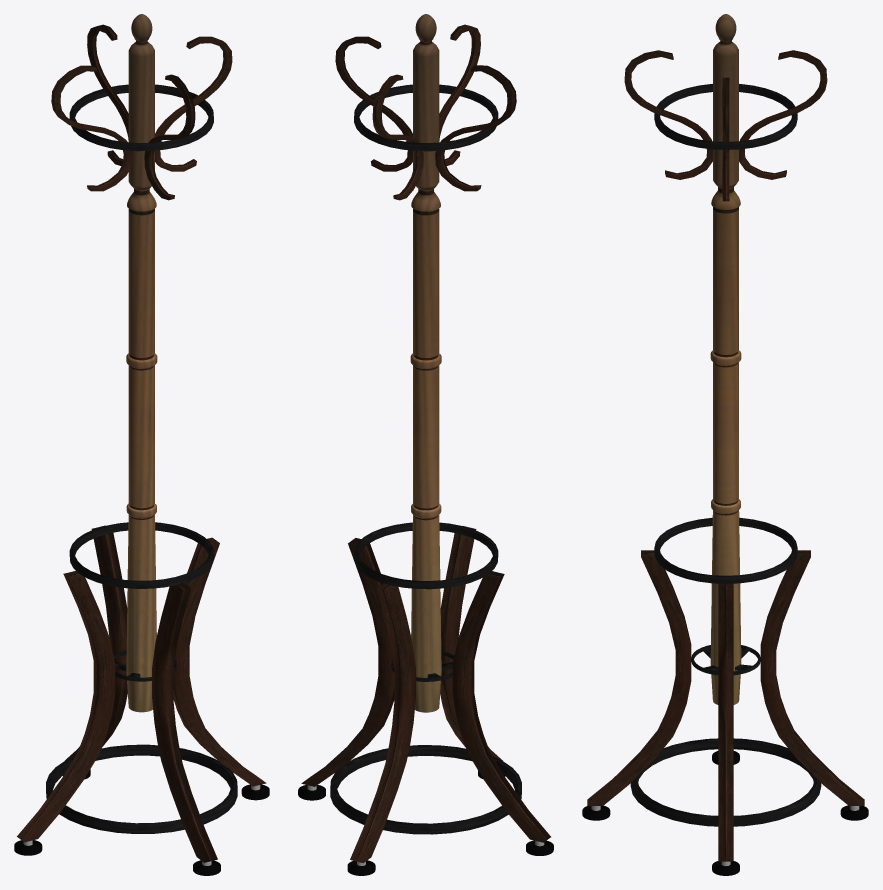
Rendered from Hat_Stand_1.fbx.
3 renders of one model, left to right at view 1: azimuth 30°, elevation 25°; view 2: azimuth 150°, elevation 25°; view 3: azimuth 270°, elevation 25°, orthographic.
Parts seen in each view (by area): view 1: Hat_Stand; view 2: Hat_Stand; view 3: Hat_Stand.
Boxes of the visible parts, <box> form: Hat_Stand: <box>14,14,269,875</box>; Hat_Stand: <box>298,14,553,875</box>; Hat_Stand: <box>582,14,868,875</box>.
Bounding box in the file's own units: 59.79 × 183 × 59.36.
Materials: 2 (2 with a texture image).
